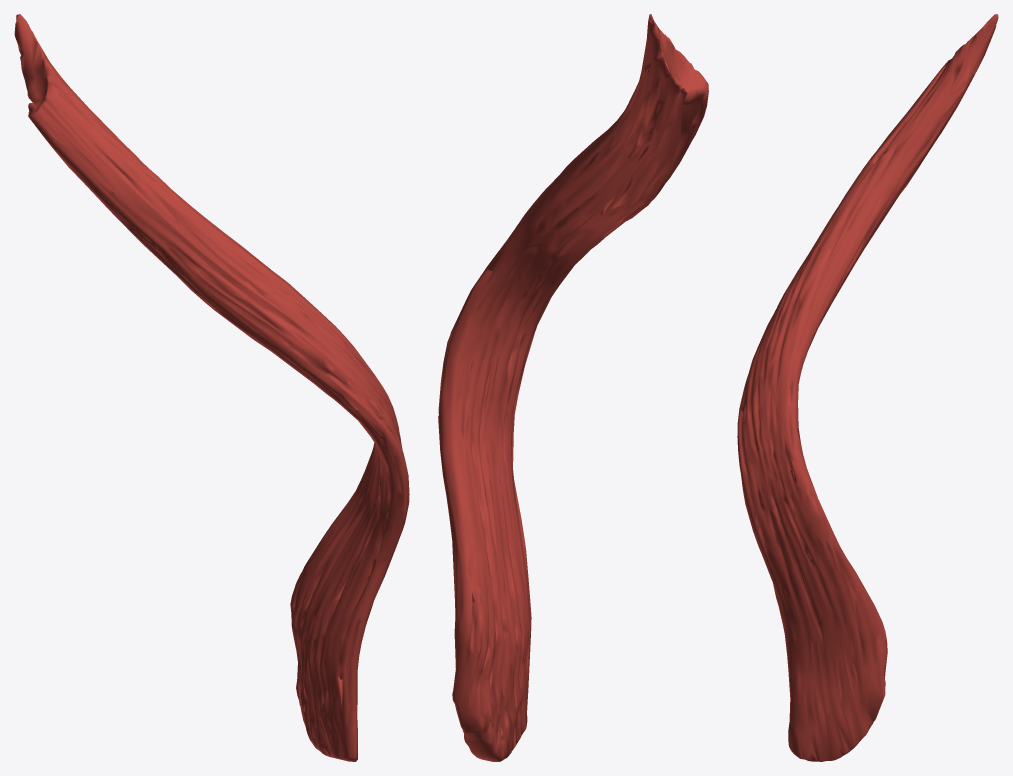
File: musculos-stylopharyngeus-muscle-r.glb
3 renders of one model, left to right at view 1: azimuth 30°, elevation 25°; view 2: azimuth 150°, elevation 25°; view 3: azimuth 270°, elevation 25°, orthographic. The views are drawn at different scales.
Visible parts, largest first — view 1: Stylopharyngeus muscle.r; view 2: Stylopharyngeus muscle.r; view 3: Stylopharyngeus muscle.r.
Boxes of the visible parts, x1=… form: Stylopharyngeus muscle.r: x1=14, y1=14, x2=409, y2=761; Stylopharyngeus muscle.r: x1=438, y1=14, x2=708, y2=761; Stylopharyngeus muscle.r: x1=737, y1=14, x2=998, y2=761.
Bounding box in the file's own units: 0.0277 × 0.0667 × 0.0243.
